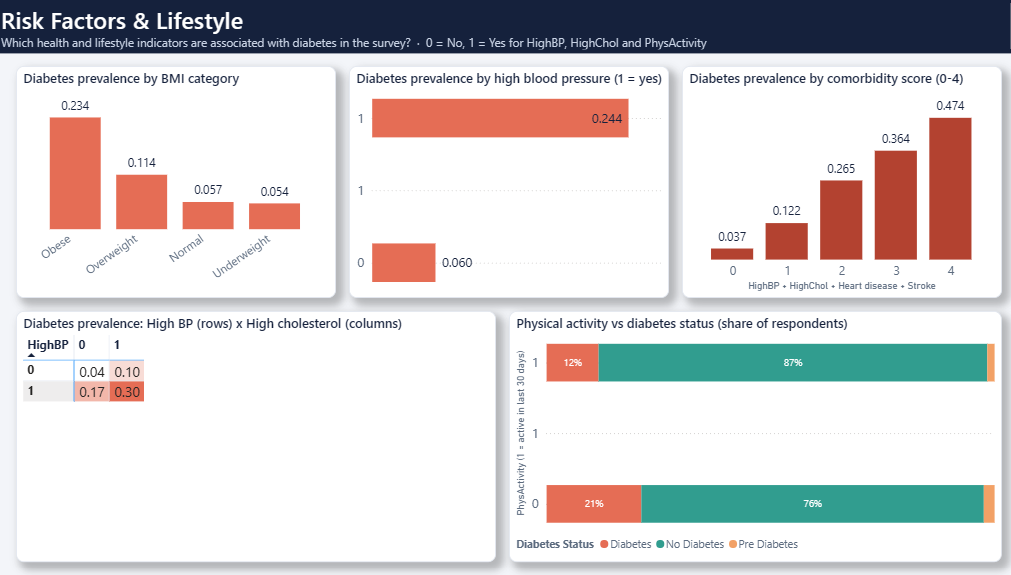

What the dashboard file says about the page in this screenshot:
{"tool":"powerbi","page":{"name":"02 - Risk Factors & Lifestyle","canvas":[1280,720],"ordinal":1},"visuals":[{"type":"textbox","box":[0,0,1280,68],"z":1000},{"type":"clusteredColumnChart","title":"Diabetes prevalence by BMI category","fields":{"Category":["BRFSS2015.BMI Category"],"Y":["BRFSS2015.Diabetes Prevalence"]},"box":[24,84,400,290],"z":2000},{"type":"clusteredBarChart","title":"Diabetes prevalence by high blood pressure (1 = yes)","fields":{"Category":["BRFSS2015.HighBP"],"Y":["BRFSS2015.Diabetes Prevalence"]},"box":[440,84,400,290],"z":3000},{"type":"clusteredColumnChart","title":"Diabetes prevalence by comorbidity score (0-4)","fields":{"Category":["BRFSS2015.Comorbidiry Score"],"Y":["BRFSS2015.Diabetes Prevalence"]},"box":[856,84,400,290],"z":4000},{"type":"pivotTable","title":"Diabetes prevalence: High BP (rows) x High cholesterol (columns)","fields":{"Rows":["BRFSS2015.HighBP"],"Columns":["BRFSS2015.HighChol"],"Values":["BRFSS2015.Diabetes Prevalence"]},"box":[24,390,600,314],"z":5000},{"type":"hundredPercentStackedBarChart","title":"Physical activity vs diabetes status (share of respondents)","fields":{"Category":["BRFSS2015.PhysActivity"],"Series":["BRFSS2015.Diabetes Status"],"Y":["BRFSS2015.Total Respondents"]},"box":[640,390,616,314],"z":6000}]}

Visuals, with their boxes in screenshot pixels (x1, y1, x2, y2), scaled from the page's 1280x720 canvas onto the 1011x575 screenshot:
textbox: locate(0, 0, 1010, 54)
"Diabetes prevalence by BMI category" clusteredColumnChart: locate(19, 67, 335, 299)
"Diabetes prevalence by high blood pressure (1 = yes)" clusteredBarChart: locate(348, 67, 663, 299)
"Diabetes prevalence by comorbidity score (0-4)" clusteredColumnChart: locate(676, 67, 992, 299)
"Diabetes prevalence: High BP (rows) x High cholesterol (columns)" pivotTable: locate(19, 311, 493, 562)
"Physical activity vs diabetes status (share of respondents)" hundredPercentStackedBarChart: locate(506, 311, 992, 562)
